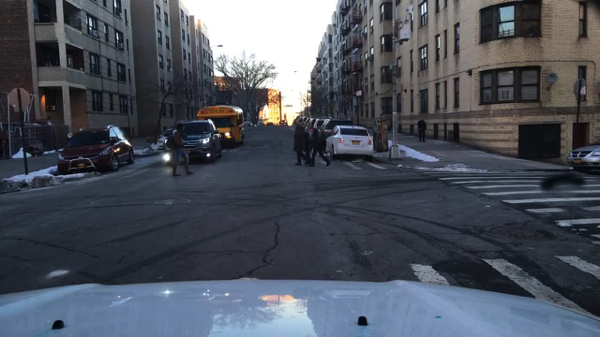bus: (197, 105, 246, 148)
car: (58, 124, 135, 176), (163, 120, 222, 163), (326, 125, 374, 162), (567, 139, 599, 174), (321, 118, 354, 137), (158, 127, 172, 150), (313, 117, 326, 129), (308, 117, 318, 127), (243, 118, 253, 126), (304, 117, 312, 124), (302, 115, 308, 124), (294, 117, 302, 123), (279, 121, 287, 126), (267, 121, 274, 125), (252, 123, 257, 127)
person: (170, 123, 196, 177), (293, 119, 304, 165), (302, 121, 313, 166), (415, 116, 426, 143)
traffic sign: (11, 87, 30, 113), (572, 78, 587, 96), (358, 90, 362, 96)
